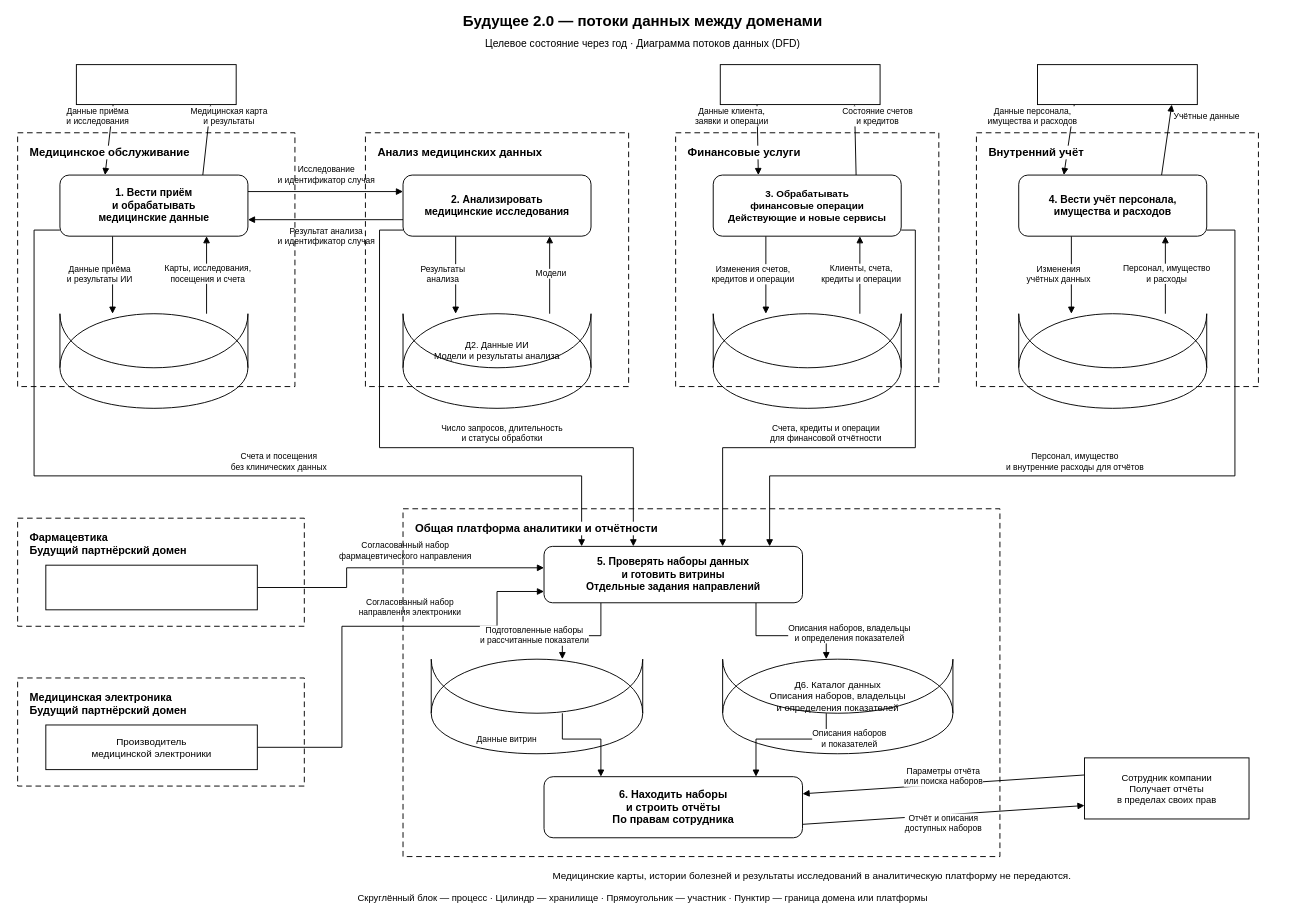
Image size: 1290x914. Some labels were removed from this diagram. Here are the shapes that lost their labels. From the top down, the centre of each, then its label:
(x=156, y=84): Сотрудник клиники
(x=800, y=84): Клиент банка
(x=1117, y=84): Сотрудник головного офиса
(x=153, y=340): Д1. Данные клиники Карты, истории болезней, исследования, посещения и счета
(x=807, y=340): Д3. Финансовые данные Клиенты, счета, кредиты и операции
(x=1112, y=340): Д4. Учётные данные Персонал, имущество и расходы
(x=151, y=587): Фармацевтические компании
(x=537, y=685): Д5. Аналитические витрины Отдельные области направлений
